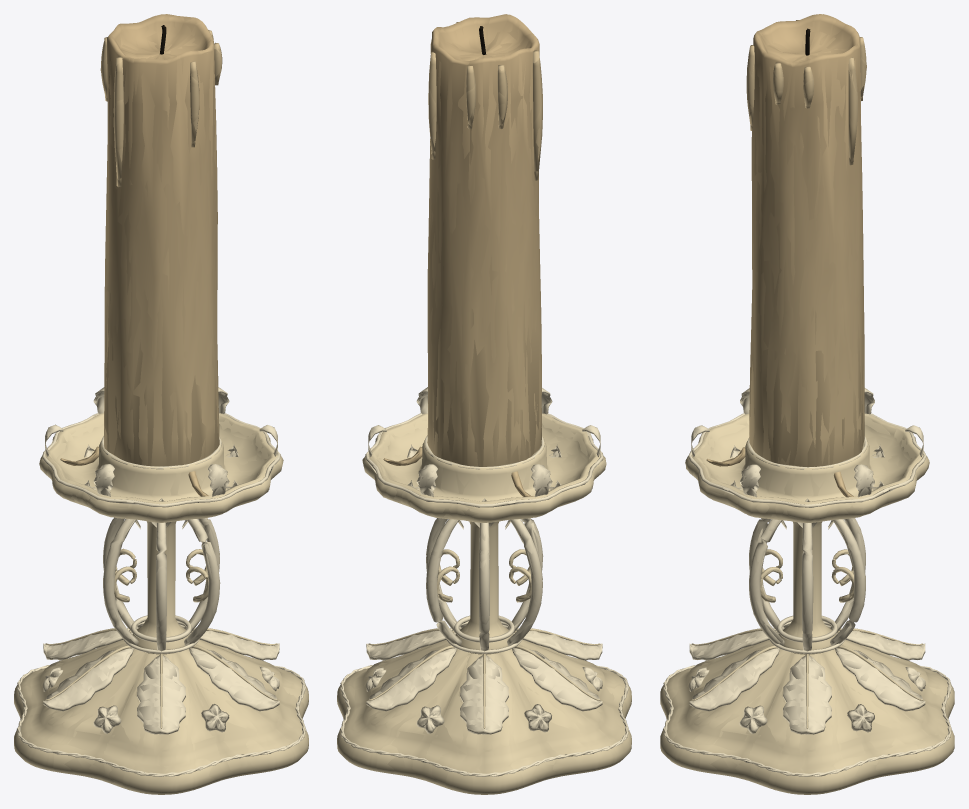
File: ornate-candlestick.glb
The picture shows the model from 3 angles, left to right: view 1: azimuth 30°, elevation 25°; view 2: azimuth 150°, elevation 25°; view 3: azimuth 270°, elevation 25°; orthographic projection.
Visible parts, largest first — view 1: SM_Candlestick_LOD0_holder_PolishedBrass, SM_Candlestick_LOD0_wax_Beeswax, SM_Candlestick_LOD1_wax_Beeswax, SM_Candlestick_LOD1_holder_PolishedBrass, SM_Candlestick_LOD0_holder_HighlightBrass, SM_Candlestick_LOD1_holder_HighlightBrass; view 2: SM_Candlestick_LOD0_wax_Beeswax, SM_Candlestick_LOD0_holder_PolishedBrass, SM_Candlestick_LOD1_wax_Beeswax, SM_Candlestick_LOD1_holder_PolishedBrass, SM_Candlestick_LOD0_holder_HighlightBrass, SM_Candlestick_LOD1_holder_HighlightBrass; view 3: SM_Candlestick_LOD0_wax_Beeswax, SM_Candlestick_LOD0_holder_PolishedBrass, SM_Candlestick_LOD1_wax_Beeswax, SM_Candlestick_LOD1_holder_PolishedBrass, SM_Candlestick_LOD0_holder_HighlightBrass, SM_Candlestick_LOD1_holder_HighlightBrass.
Part boxes in pixels (<box>): SM_Candlestick_LOD0_holder_PolishedBrass: <box>14,413,308,794</box>; SM_Candlestick_LOD0_wax_Beeswax: <box>101,14,222,466</box>; SM_Candlestick_LOD1_wax_Beeswax: <box>100,14,221,466</box>; SM_Candlestick_LOD1_holder_PolishedBrass: <box>14,413,308,794</box>; SM_Candlestick_LOD0_holder_HighlightBrass: <box>17,387,306,776</box>; SM_Candlestick_LOD1_holder_HighlightBrass: <box>18,387,304,776</box>; SM_Candlestick_LOD0_wax_Beeswax: <box>427,14,542,466</box>; SM_Candlestick_LOD0_holder_PolishedBrass: <box>337,413,631,794</box>; SM_Candlestick_LOD1_wax_Beeswax: <box>427,14,542,466</box>; SM_Candlestick_LOD1_holder_PolishedBrass: <box>337,413,631,794</box>; SM_Candlestick_LOD0_holder_HighlightBrass: <box>340,388,628,776</box>; SM_Candlestick_LOD1_holder_HighlightBrass: <box>341,387,627,776</box>; SM_Candlestick_LOD0_wax_Beeswax: <box>746,14,866,466</box>; SM_Candlestick_LOD0_holder_PolishedBrass: <box>660,413,954,794</box>; SM_Candlestick_LOD1_wax_Beeswax: <box>747,14,866,467</box>; SM_Candlestick_LOD1_holder_PolishedBrass: <box>660,413,954,794</box>; SM_Candlestick_LOD0_holder_HighlightBrass: <box>663,388,951,776</box>; SM_Candlestick_LOD1_holder_HighlightBrass: <box>664,388,950,776</box>.
Bounding box in the file's own units: 0.2554 × 0.6127 × 0.2317.
